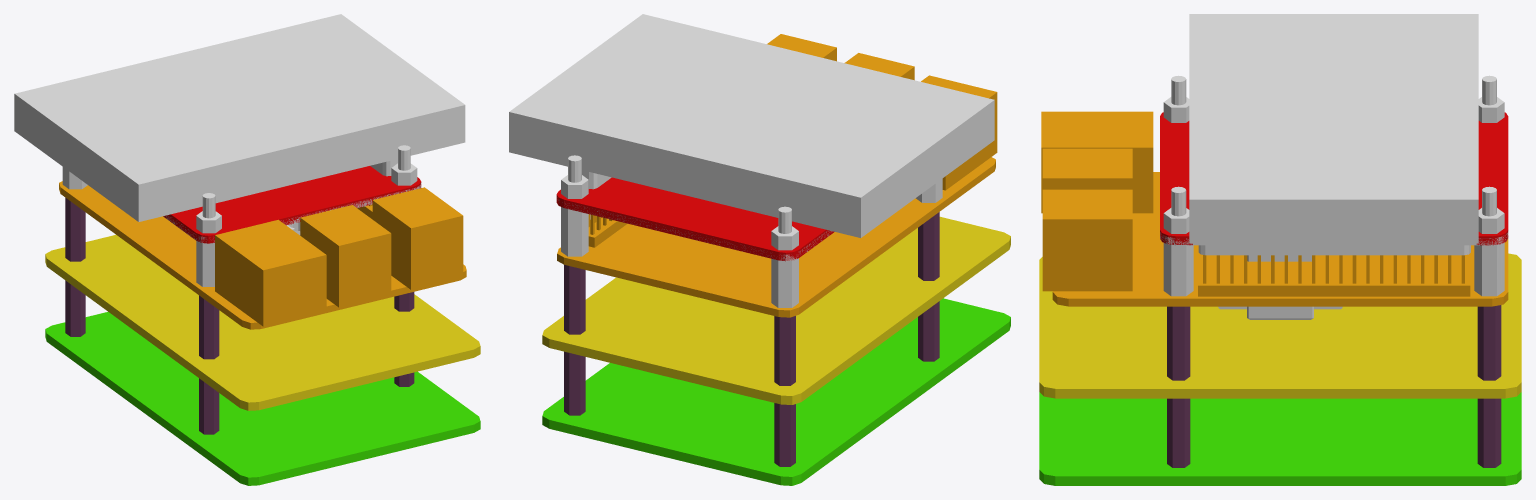
The model's file is raspberry_pi_b+.dae.
The picture shows the model from 3 angles, left to right: view 1: azimuth 30°, elevation 25°; view 2: azimuth 150°, elevation 25°; view 3: azimuth 270°, elevation 25°; orthographic projection. The views are drawn at different scales.
Visible parts, largest first — view 1: breadboard, _x9x0_2, Cube_001, _x9x0_000, acrylic, standoffs_001, Cylinder__0_220__001, Cylinder__0_220__002; view 2: breadboard, _x9x0_2, _x9x0_000, Cube_001, acrylic, standoffs_001, Cylinder__0_220__001, Cylinder__0_220__002; view 3: breadboard, _x9x0_2, _x9x0_000, Cube_001, standoffs_001, acrylic, Cylinder__0_220__001, Cylinder__0_220__002, gpio_pins, Cube, acrylic_001.
Boxes of the visible parts, x1,y1,x2,y2 form: breadboard: (14, 14, 465, 221); _x9x0_2: (45, 235, 480, 410); Cube_001: (59, 181, 466, 329); _x9x0_000: (45, 312, 480, 485); acrylic: (163, 166, 421, 243); standoffs_001: (62, 145, 417, 286); Cylinder__0_220__001: (65, 197, 414, 359); Cylinder__0_220__002: (65, 280, 414, 434); breadboard: (509, 14, 994, 237); _x9x0_2: (542, 216, 1010, 404); _x9x0_000: (542, 298, 1010, 485); Cube_001: (557, 34, 997, 317); acrylic: (556, 177, 834, 261); standoffs_001: (561, 155, 942, 307); Cylinder__0_220__001: (564, 212, 939, 385); Cylinder__0_220__002: (564, 301, 939, 466); breadboard: (1189, 14, 1478, 243); _x9x0_2: (1039, 253, 1521, 398); _x9x0_000: (1039, 392, 1521, 485); Cube_001: (1041, 111, 1508, 306); standoffs_001: (1163, 75, 1504, 296); acrylic: (1160, 112, 1508, 245); Cylinder__0_220__001: (1167, 305, 1501, 380); Cylinder__0_220__002: (1167, 398, 1501, 467); gpio_pins: (1198, 245, 1470, 255); Cube: (1247, 255, 1313, 319); acrylic_001: (1160, 232, 1508, 245).
Bounding box in the file's own units: 8.2 × 9 × 6.41.
